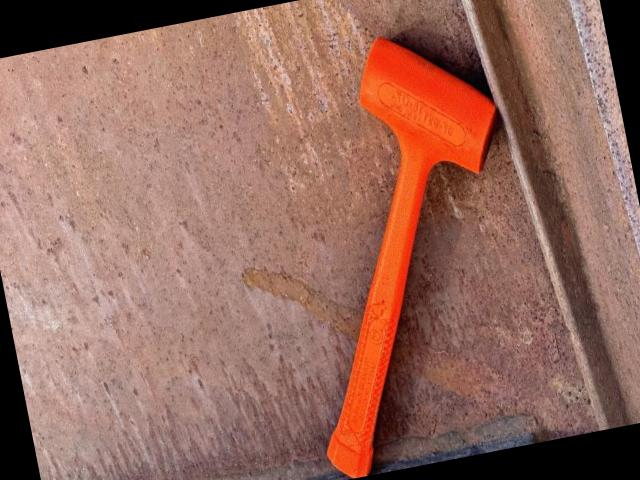hammer: (247, 16, 565, 480)
